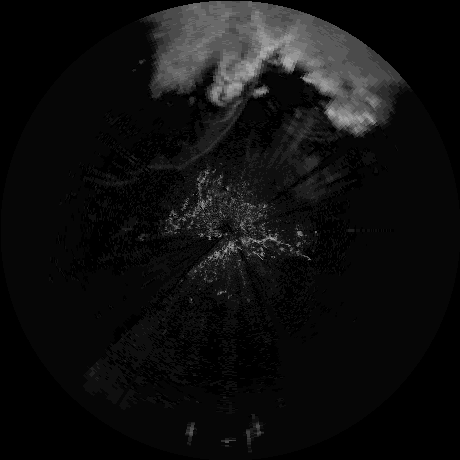frontgust: (191, 88, 251, 162)
